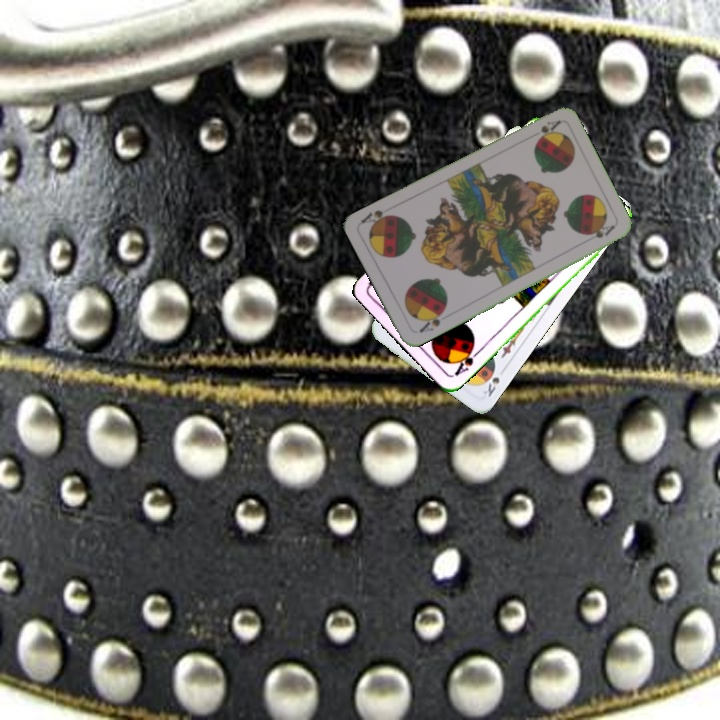SA: (450, 342, 482, 379), (525, 116, 563, 144), (415, 306, 447, 335)
SK: (479, 362, 502, 399)
